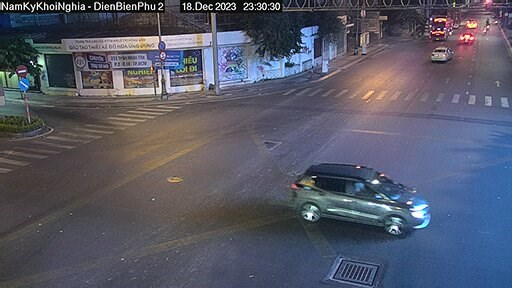car: (285, 150, 435, 239), (424, 41, 455, 63), (430, 13, 452, 42), (461, 27, 479, 48)
